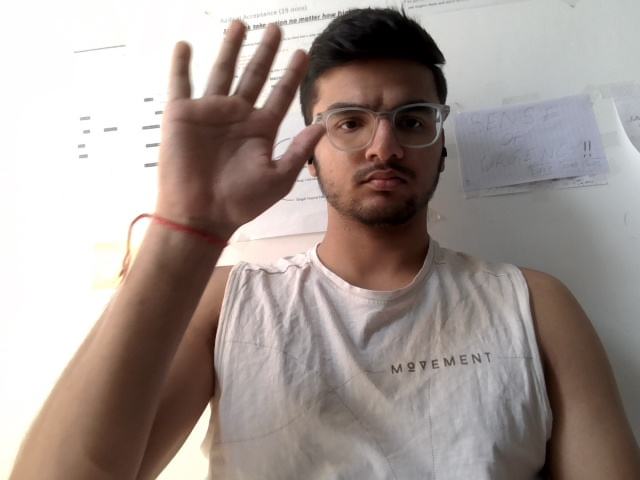Hello: (151, 8, 330, 254)
